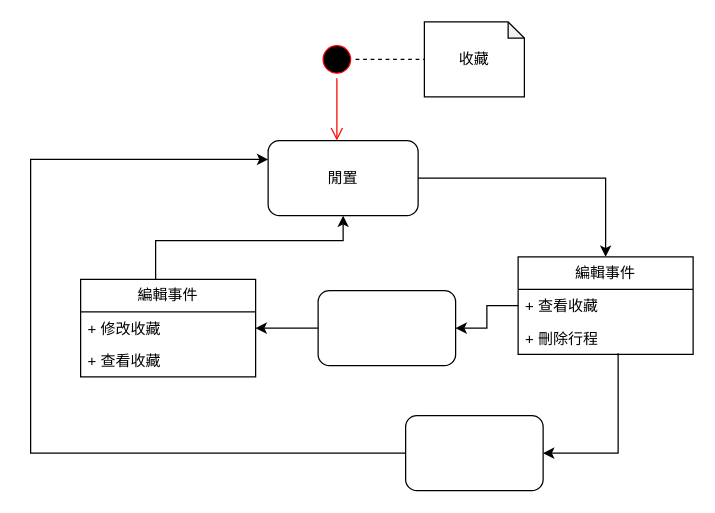
Image size: 715x513. Some labels were removed from this diagram. The centre of each missing label's shape, as x and y in pixels:
刪除成功: (473,452)
打開收藏: (386,327)
